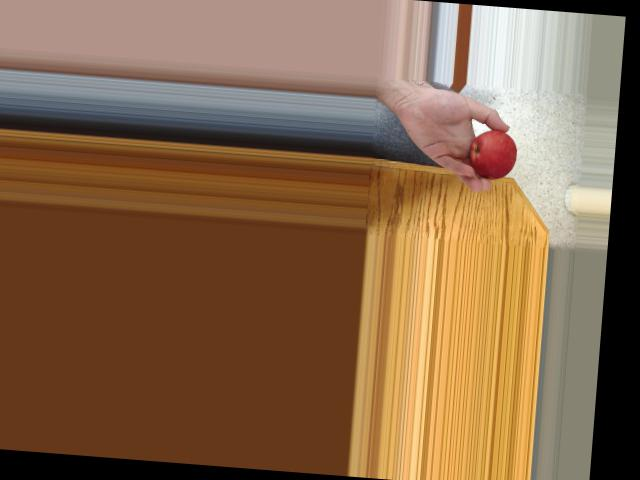apple: (468, 131, 521, 182)
